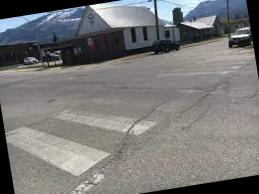faded_road_lines: (5, 53, 253, 194)
